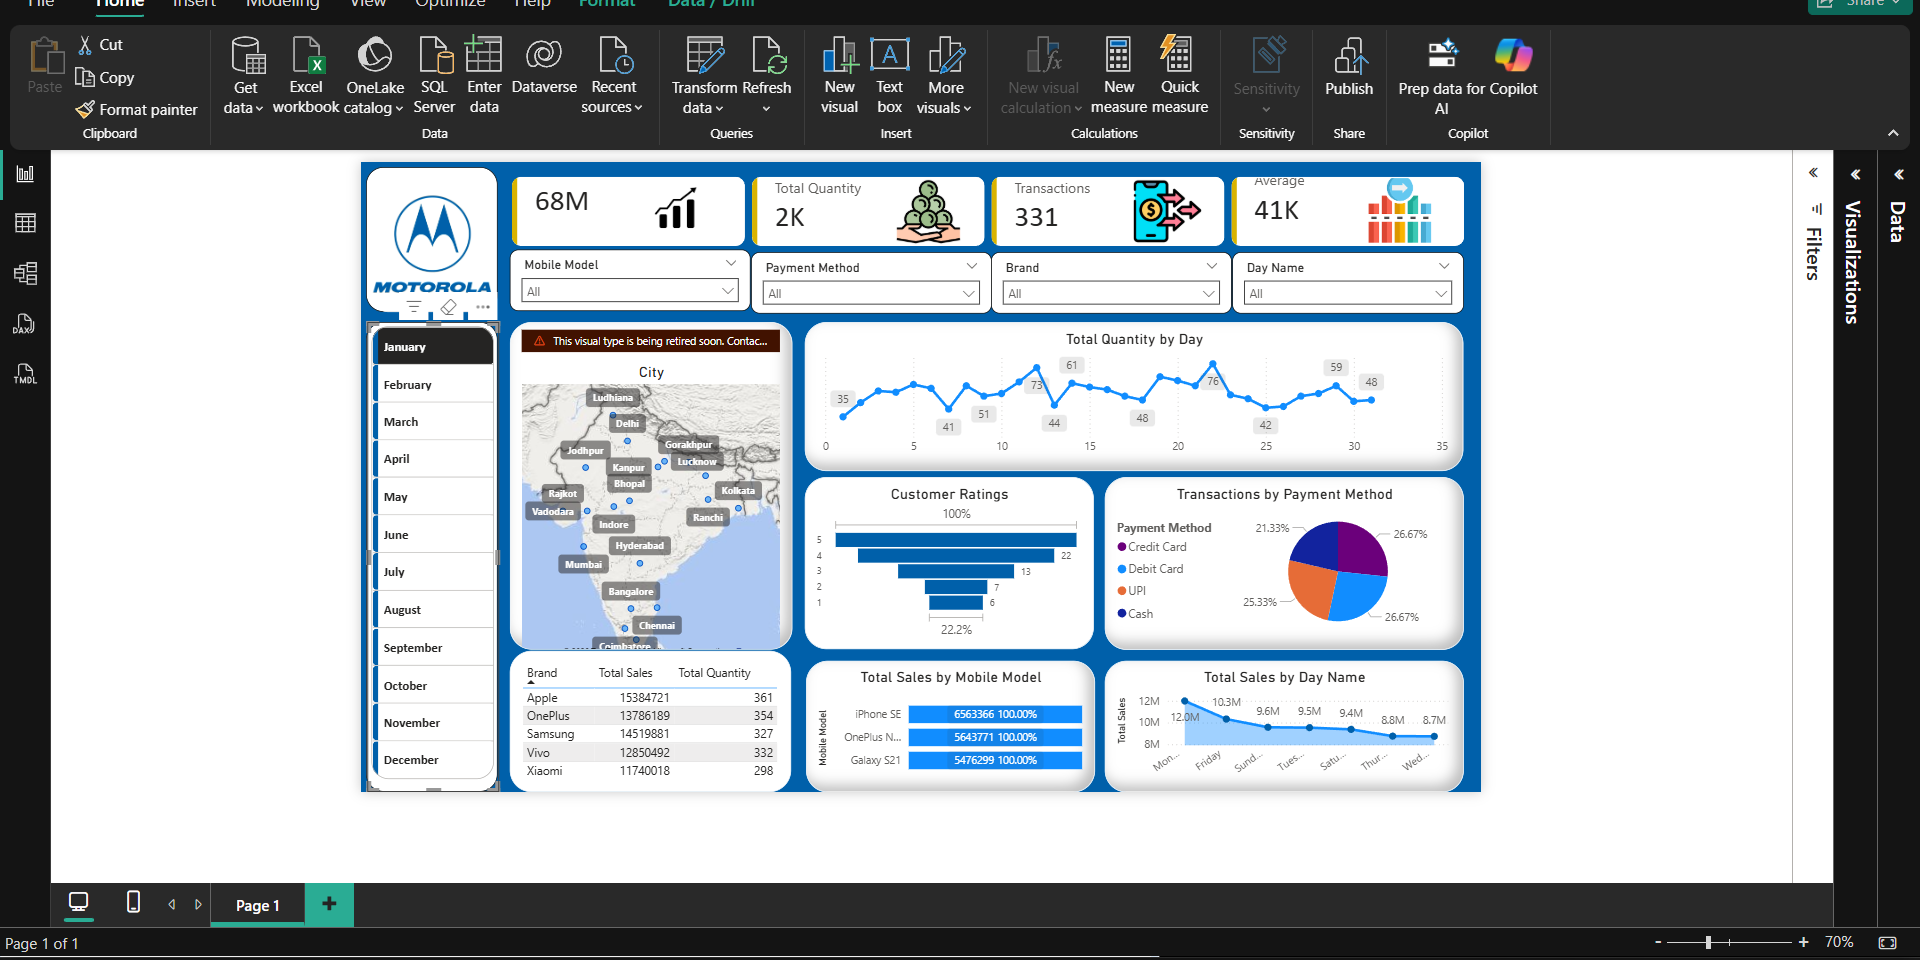

The dashboard page shown, as its layout file describes it:
{"tool":"powerbi","page":{"name":"Page 1","canvas":[1280,720],"ordinal":0},"visuals":[{"type":"shape","box":[5.7,5.7,150,165.7],"z":0},{"type":"image","box":[11.4,17.1,140,154.3],"z":1000},{"type":"shape","box":[5.7,182.9,150,537.1],"z":2000},{"type":"advancedSlicerVisual","fields":{"Values":["Sheet1.Date.Variation.Date Hierarchy.Month"]},"box":[7.1,182.9,150,537.1],"z":3000},{"type":"cardVisual","fields":{"Data":["Sheet1.Total Sales","Sheet1.Total Quantity","Sheet1.Transactions","Sheet1.Average"]},"box":[155.6,0,1122.2,113.3],"z":4000},{"type":"map","fields":{"Category":["Sheet1.City"]},"box":[170,182.9,322.9,374.3],"z":5000},{"type":"lineChart","fields":{"Y":["Sheet1.Total Quantity"],"Category":["Sheet1.Date.Variation.Date Hierarchy.Month","Sheet1.Date.Variation.Date Hierarchy.Day"]},"box":[507.5,182.5,752.5,170],"z":6000},{"type":"hundredPercentStackedBarChart","fields":{"Category":["Sheet1.Mobile Model"],"Y":["Sheet1.Total Sales"]},"box":[508.6,570,330,150],"z":7000},{"type":"pieChart","fields":{"Category":["Sheet1.Payment Method"],"Y":["Sheet1.Transactions"]},"box":[850,360,410,197.5],"z":8000},{"type":"funnel","title":"Customer Ratings ","fields":{"Category":["Sheet1.Customer Ratings"],"Y":["CountNonNull(Sheet1.Customer Ratings)"]},"box":[507.1,360,330,197.1],"z":9000},{"type":"areaChart","fields":{"Category":["Sheet1.Day Name"],"Y":["Sheet1.Total Sales"]},"box":[850,570,410,150],"z":10000},{"type":"tableEx","fields":{"Values":["Sheet1.Brand","Sheet1.Total Sales","Sheet1.Total Quantity"]},"box":[170,558.6,321.4,161.4],"z":11000},{"type":"slicer","fields":{"Values":["Sheet1.Mobile Model"]},"box":[170,100,275.6,70],"z":12000},{"type":"slicer","fields":{"Values":["Sheet1.Payment Method"]},"box":[445,102.5,275,70],"z":13000},{"type":"slicer","fields":{"Values":["Sheet1.Brand"]},"box":[720,102.5,275,70],"z":14000},{"type":"slicer","fields":{"Values":["Sheet1.Day Name"]},"box":[995,102.5,265,70],"z":15000}]}

Visuals, with their boxes on the page's 1280x720 design canvas (x1, y1, x2, y2). These are canvas units, not pixel positions in the 1920x960 screenshot, which may show the page scaled, cropped or inside an application window:
shape: Rect(6, 6, 156, 171)
image: Rect(11, 17, 151, 171)
shape: Rect(6, 183, 156, 720)
advancedSlicerVisual - Sheet1.Date.Variation.Date Hierarchy.Month: Rect(7, 183, 157, 720)
cardVisual - Sheet1.Total Sales x Sheet1.Total Quantity: Rect(156, 0, 1278, 113)
map - Sheet1.City: Rect(170, 183, 493, 557)
lineChart - Sheet1.Total Quantity x Sheet1.Date.Variation.Date Hierarchy.Month: Rect(508, 182, 1260, 352)
hundredPercentStackedBarChart - Sheet1.Mobile Model x Sheet1.Total Sales: Rect(509, 570, 839, 720)
pieChart - Sheet1.Payment Method x Sheet1.Transactions: Rect(850, 360, 1260, 558)
"Customer Ratings " funnel: Rect(507, 360, 837, 557)
areaChart - Sheet1.Day Name x Sheet1.Total Sales: Rect(850, 570, 1260, 720)
tableEx - Sheet1.Brand x Sheet1.Total Sales: Rect(170, 559, 491, 720)
slicer - Sheet1.Mobile Model: Rect(170, 100, 446, 170)
slicer - Sheet1.Payment Method: Rect(445, 102, 720, 172)
slicer - Sheet1.Brand: Rect(720, 102, 995, 172)
slicer - Sheet1.Day Name: Rect(995, 102, 1260, 172)
